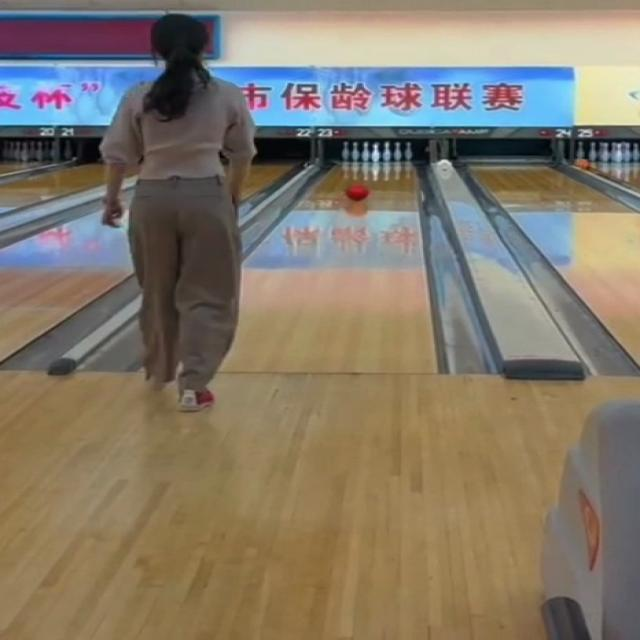alley: (222, 165, 435, 370)
balls: (346, 185, 368, 200)
bottle: (341, 141, 411, 162)
